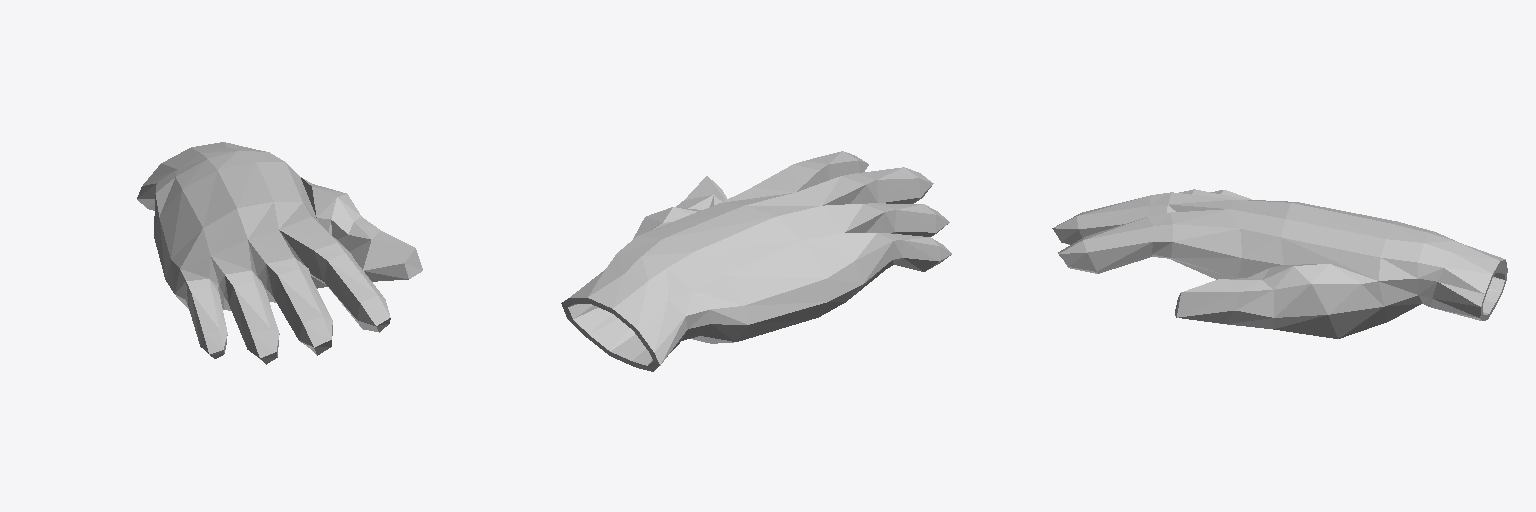
The model's file is glove.obj.
3 renders of one model, left to right at view 1: azimuth 30°, elevation 25°; view 2: azimuth 150°, elevation 25°; view 3: azimuth 270°, elevation 25°, orthographic.
Visible parts, largest first — view 1: gant; view 2: gant; view 3: gant.
Part boxes in pixels (x1,y1,x2,y2): gant: (137, 142, 422, 364); gant: (561, 151, 951, 371); gant: (1052, 189, 1507, 338).
Size of the model in its own units: 15.46 by 6.04 by 26.36.